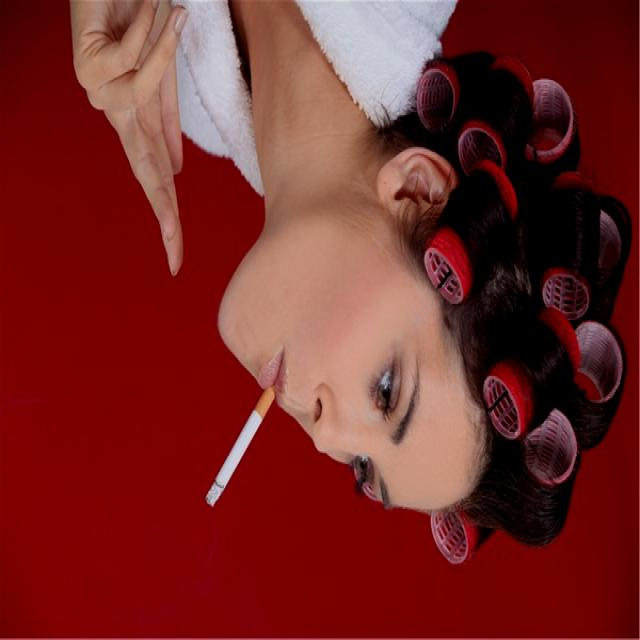cigarette: (205, 392, 272, 509)
